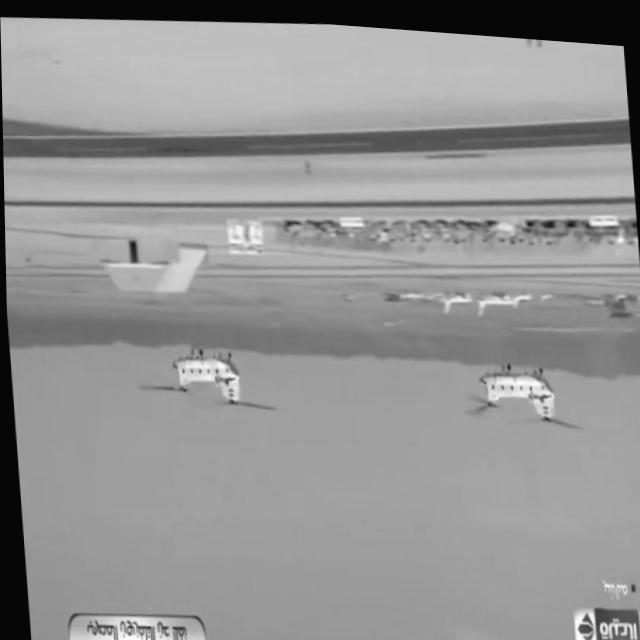helikopter: (153, 324, 269, 433), (447, 337, 567, 437)
